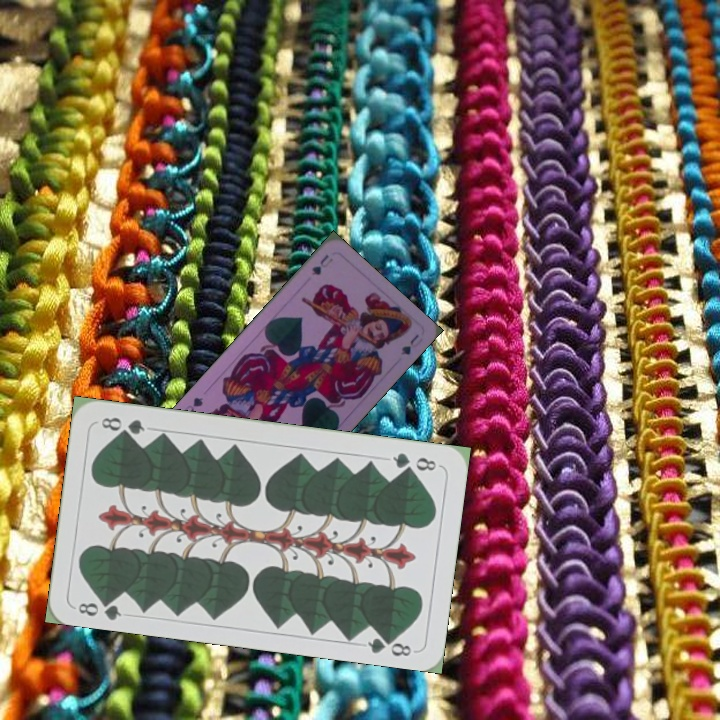G8: (74, 593, 124, 623), (388, 448, 439, 474)
GU: (307, 250, 335, 278)
